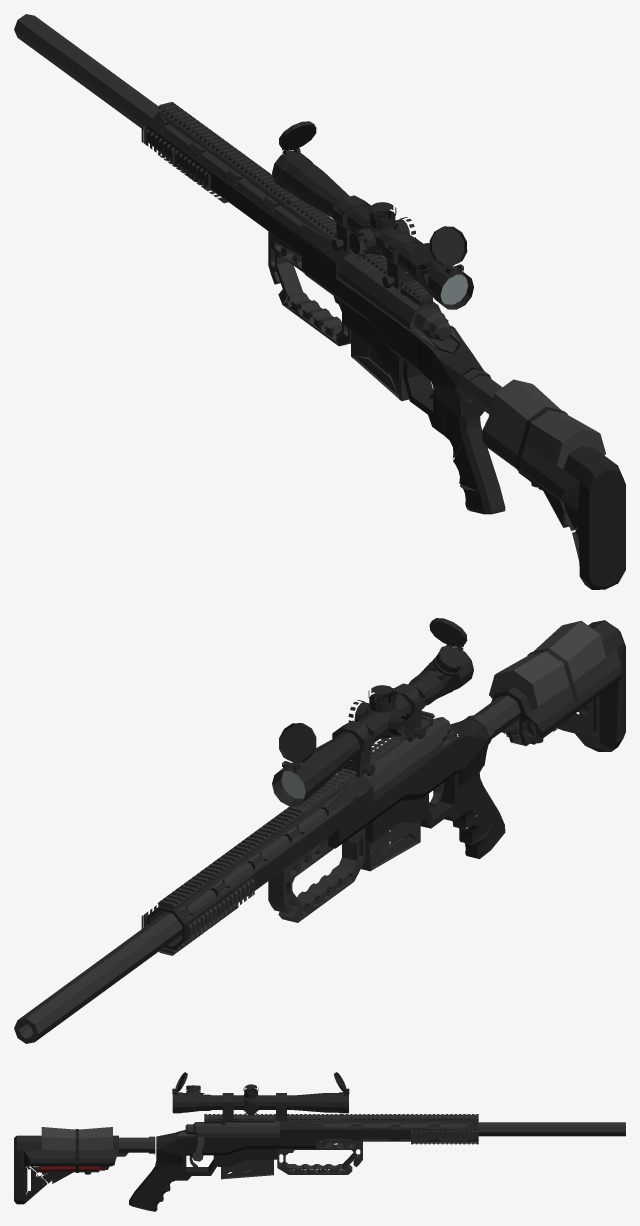
Rendered from precision.glb.
The picture shows the model from 3 angles, top to bottom: view 1: azimuth 30°, elevation 25°; view 2: azimuth 150°, elevation 25°; view 3: azimuth 270°, elevation 25°; orthographic projection. The views are drawn at different scales.
Parts seen in each view (by area): view 1: precision; view 2: precision; view 3: precision.
Boxes of the visible parts, <box> form: precision: <box>14,14,625,589</box>; precision: <box>14,618,625,1043</box>; precision: <box>14,1072,625,1211</box>.
Size of the model in its own units: 0.0726 by 0.2843 by 1.15.
Materials: 7 (7 with a texture image).
